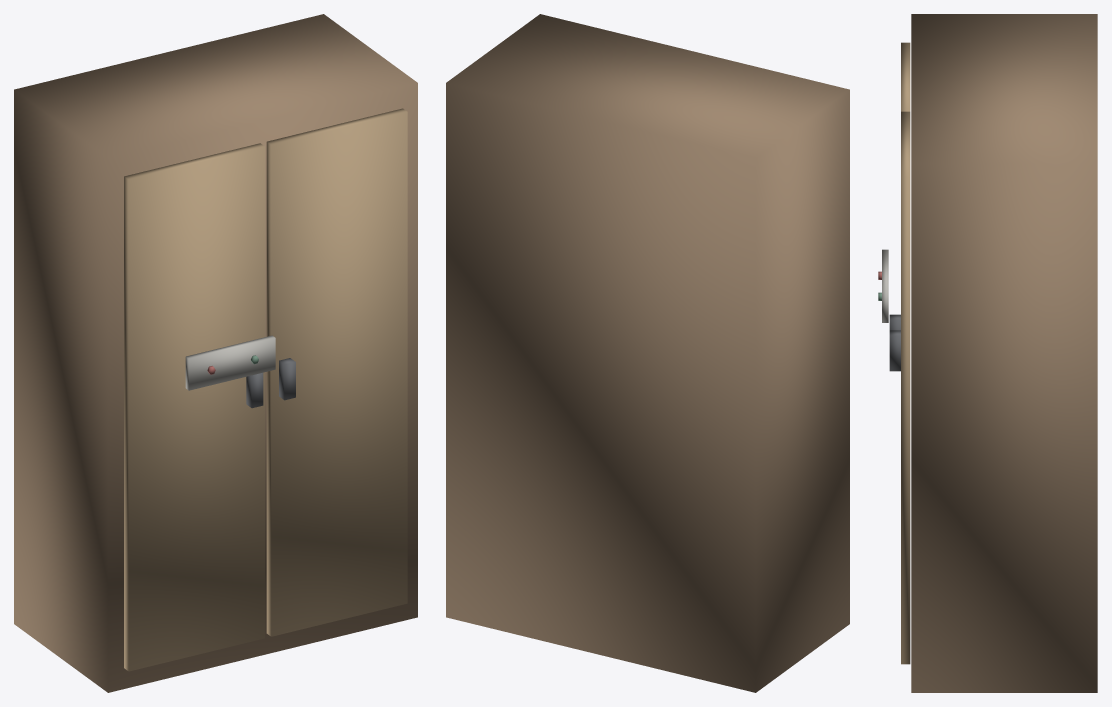
The model's file is typesetter_drawer_cabinet__tall.glb.
The picture shows the model from 3 angles, left to right: view 1: azimuth 30°, elevation 25°; view 2: azimuth 150°, elevation 25°; view 3: azimuth 270°, elevation 25°; orthographic projection.
Visible parts, largest first — view 1: world; view 2: world; view 3: world.
Boxes of the visible parts, bbox=[...] form: world: bbox=[14, 14, 417, 692]; world: bbox=[446, 14, 849, 692]; world: bbox=[878, 14, 1097, 692].
Size of the model in its own units: 0.95 by 1.57 by 0.5885.
